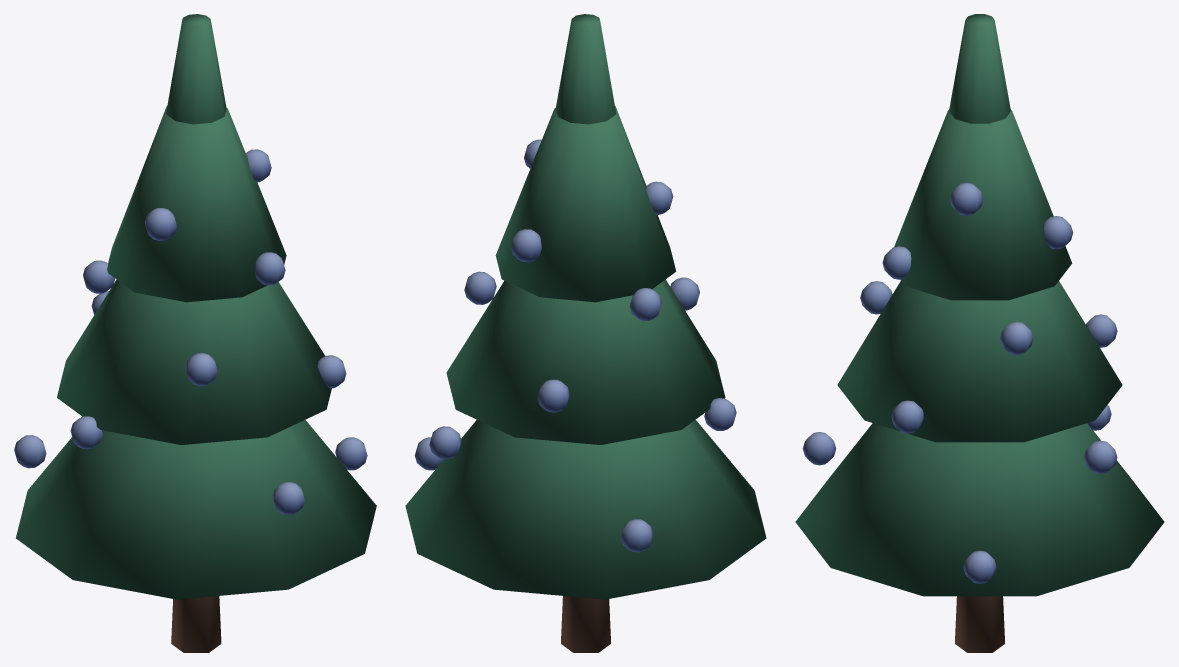
The model's file is ing_juniper_berry.glb.
3 renders of one model, left to right at view 1: azimuth 30°, elevation 25°; view 2: azimuth 150°, elevation 25°; view 3: azimuth 270°, elevation 25°, orthographic.
Parts seen in each view (by area): view 1: ing_juniper_berry; view 2: ing_juniper_berry; view 3: ing_juniper_berry.
Part boxes in pixels (left/top/right/bottom): ing_juniper_berry: left=14, top=14, right=376, bottom=652; ing_juniper_berry: left=405, top=14, right=766, bottom=652; ing_juniper_berry: left=795, top=14, right=1164, bottom=652.
Size of what is drawn, in the model's own units: 0.4426 by 0.82 by 0.44.
